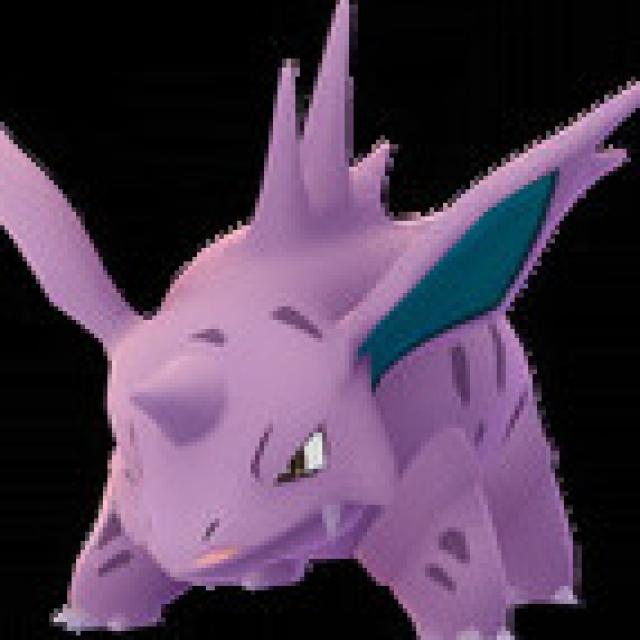Nidorino: (56, 73, 578, 635)
